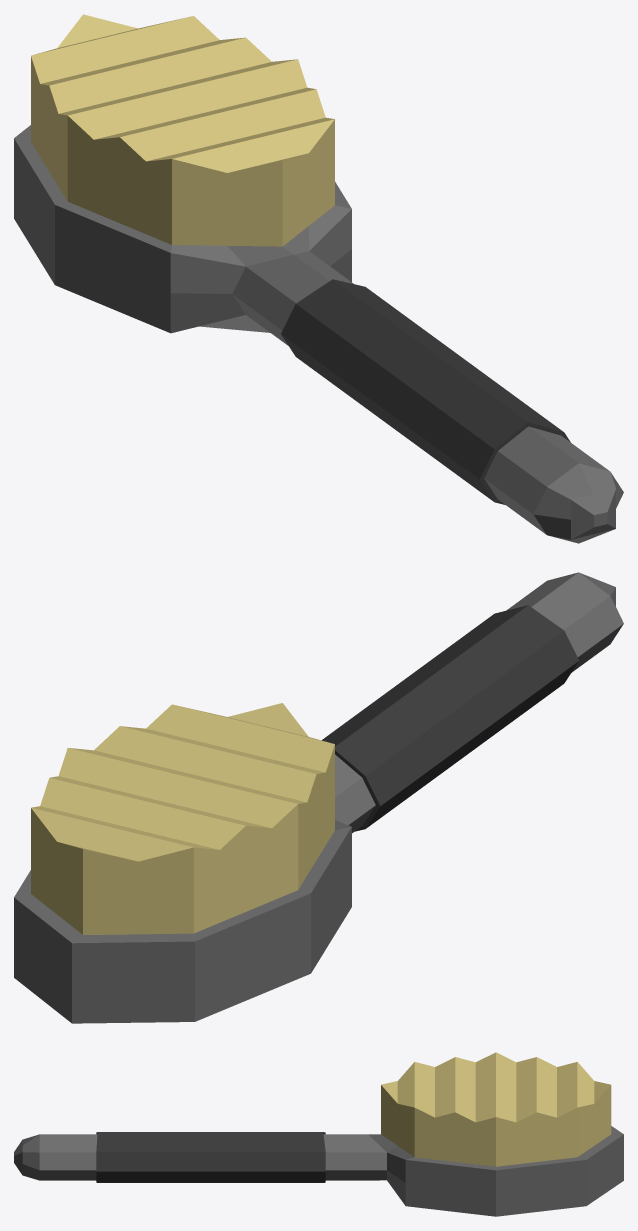
File: Hairbrush.fbx
3 renders of one model, top to bottom at view 1: azimuth 30°, elevation 25°; view 2: azimuth 150°, elevation 25°; view 3: azimuth 270°, elevation 25°, orthographic. The views are drawn at different scales.
Parts seen in each view (by area): view 1: Hairbrush; view 2: Hairbrush; view 3: Hairbrush.
Boxes of the visible parts, x1,y1,x2,y2 form: Hairbrush: [14, 14, 623, 543]; Hairbrush: [14, 572, 623, 1023]; Hairbrush: [14, 1052, 623, 1216].
Bounding box in the file's own units: 56 × 35.64 × 200.
